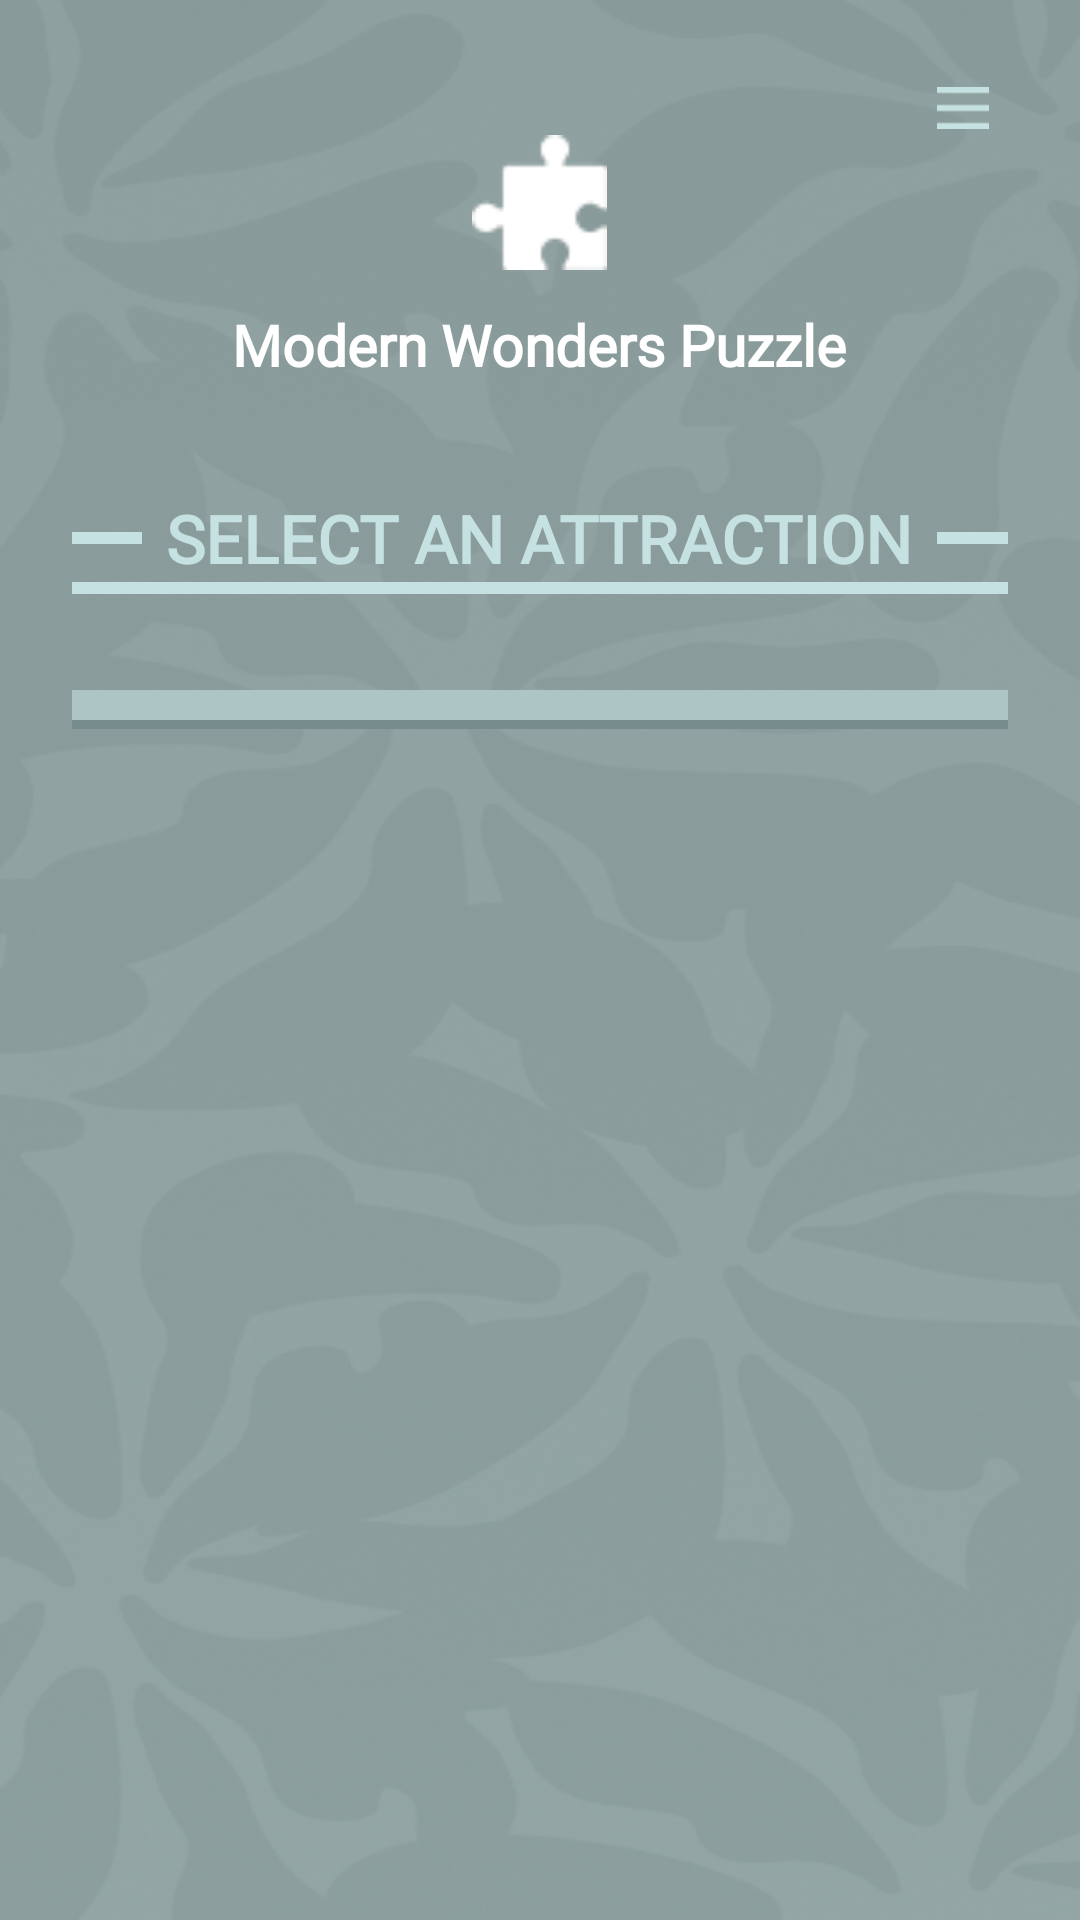

Screen size 1080px x 1920px. Icon name, then its center in pixels as point (x, y):
menu: point (963, 108)
